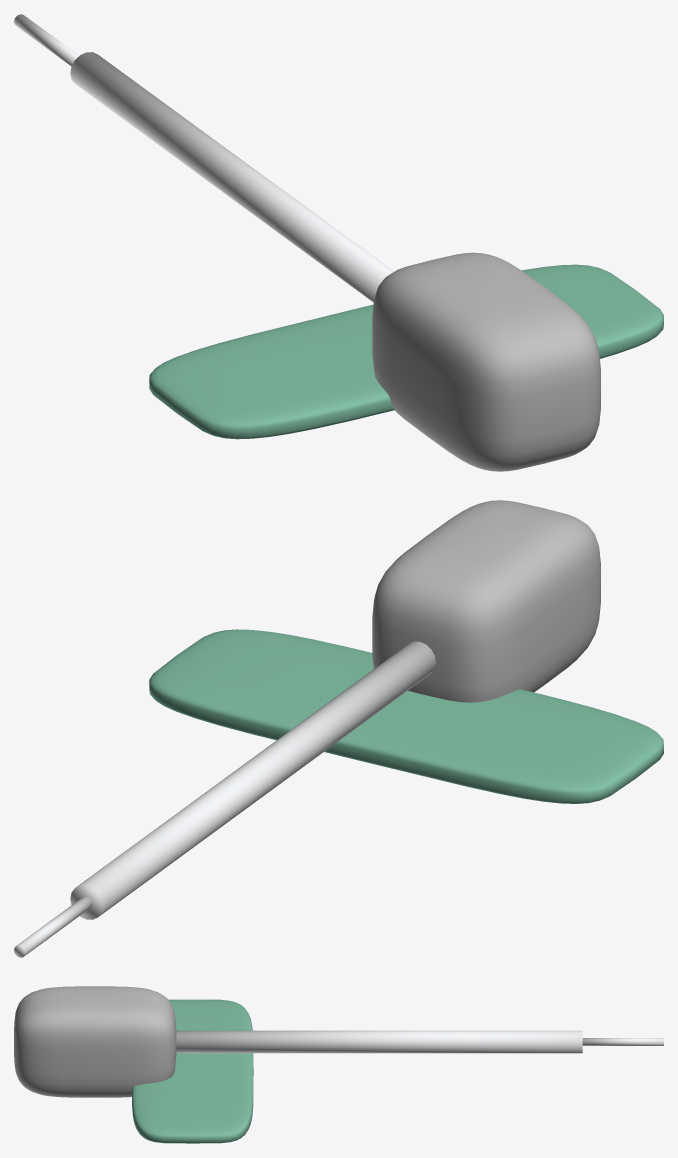
Rendered from iv_catheter.glb.
3 renders of one model, top to bottom at view 1: azimuth 30°, elevation 25°; view 2: azimuth 150°, elevation 25°; view 3: azimuth 270°, elevation 25°, orthographic. The views are drawn at different scales.
Visible parts, largest first — view 1: Hub, Wings, Needle; view 2: Wings, Hub, Needle; view 3: Hub, Wings, Needle.
Part boxes in pixels (x1,y1,x2,y2): Hub: (372,252,600,471); Wings: (149,264,663,439); Needle: (14,14,394,302); Wings: (149,629,663,803); Hub: (372,500,600,702); Needle: (14,641,435,957); Hub: (14,986,176,1097); Wings: (132,999,253,1143); Needle: (176,1030,663,1053).
Bounding box in the file's own units: 0.0399 × 0.012 × 0.08.
